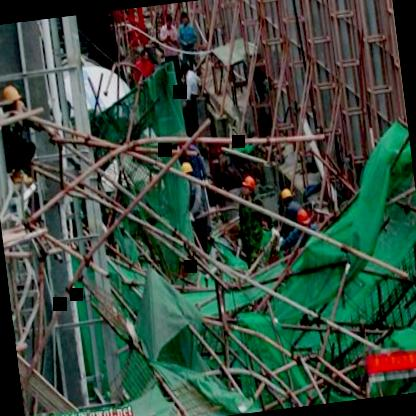head: (136, 43, 150, 66)
helmet: (0, 81, 24, 122), (292, 204, 311, 230), (238, 173, 258, 196), (178, 158, 194, 184), (280, 183, 295, 209)
